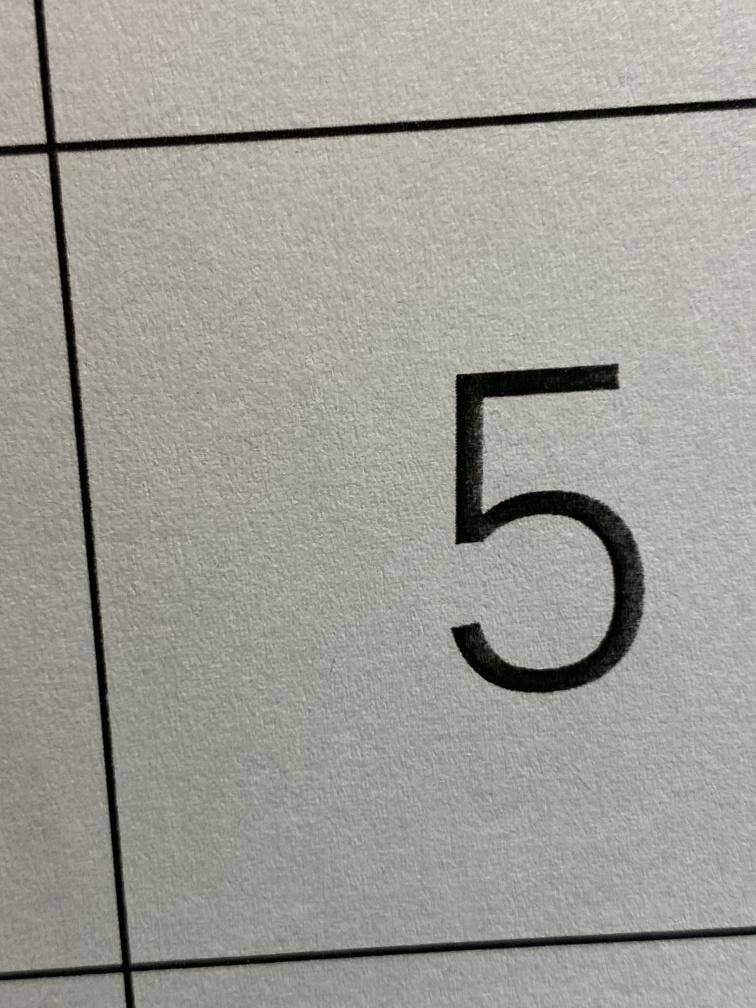five: (378, 286, 704, 764)
